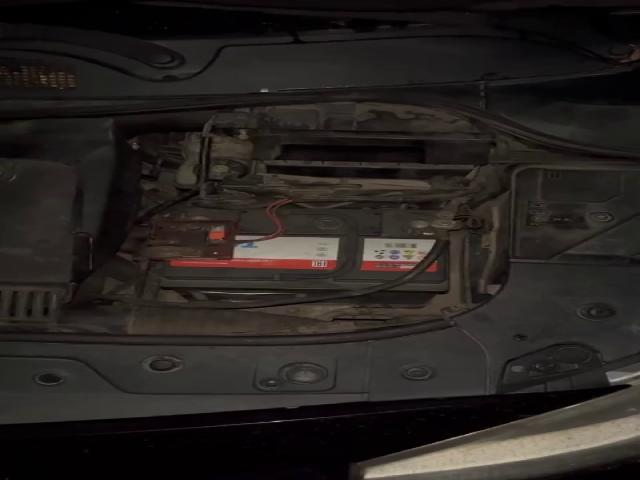accumulator: (133, 201, 459, 308)
fuse_box: (506, 163, 639, 265)
